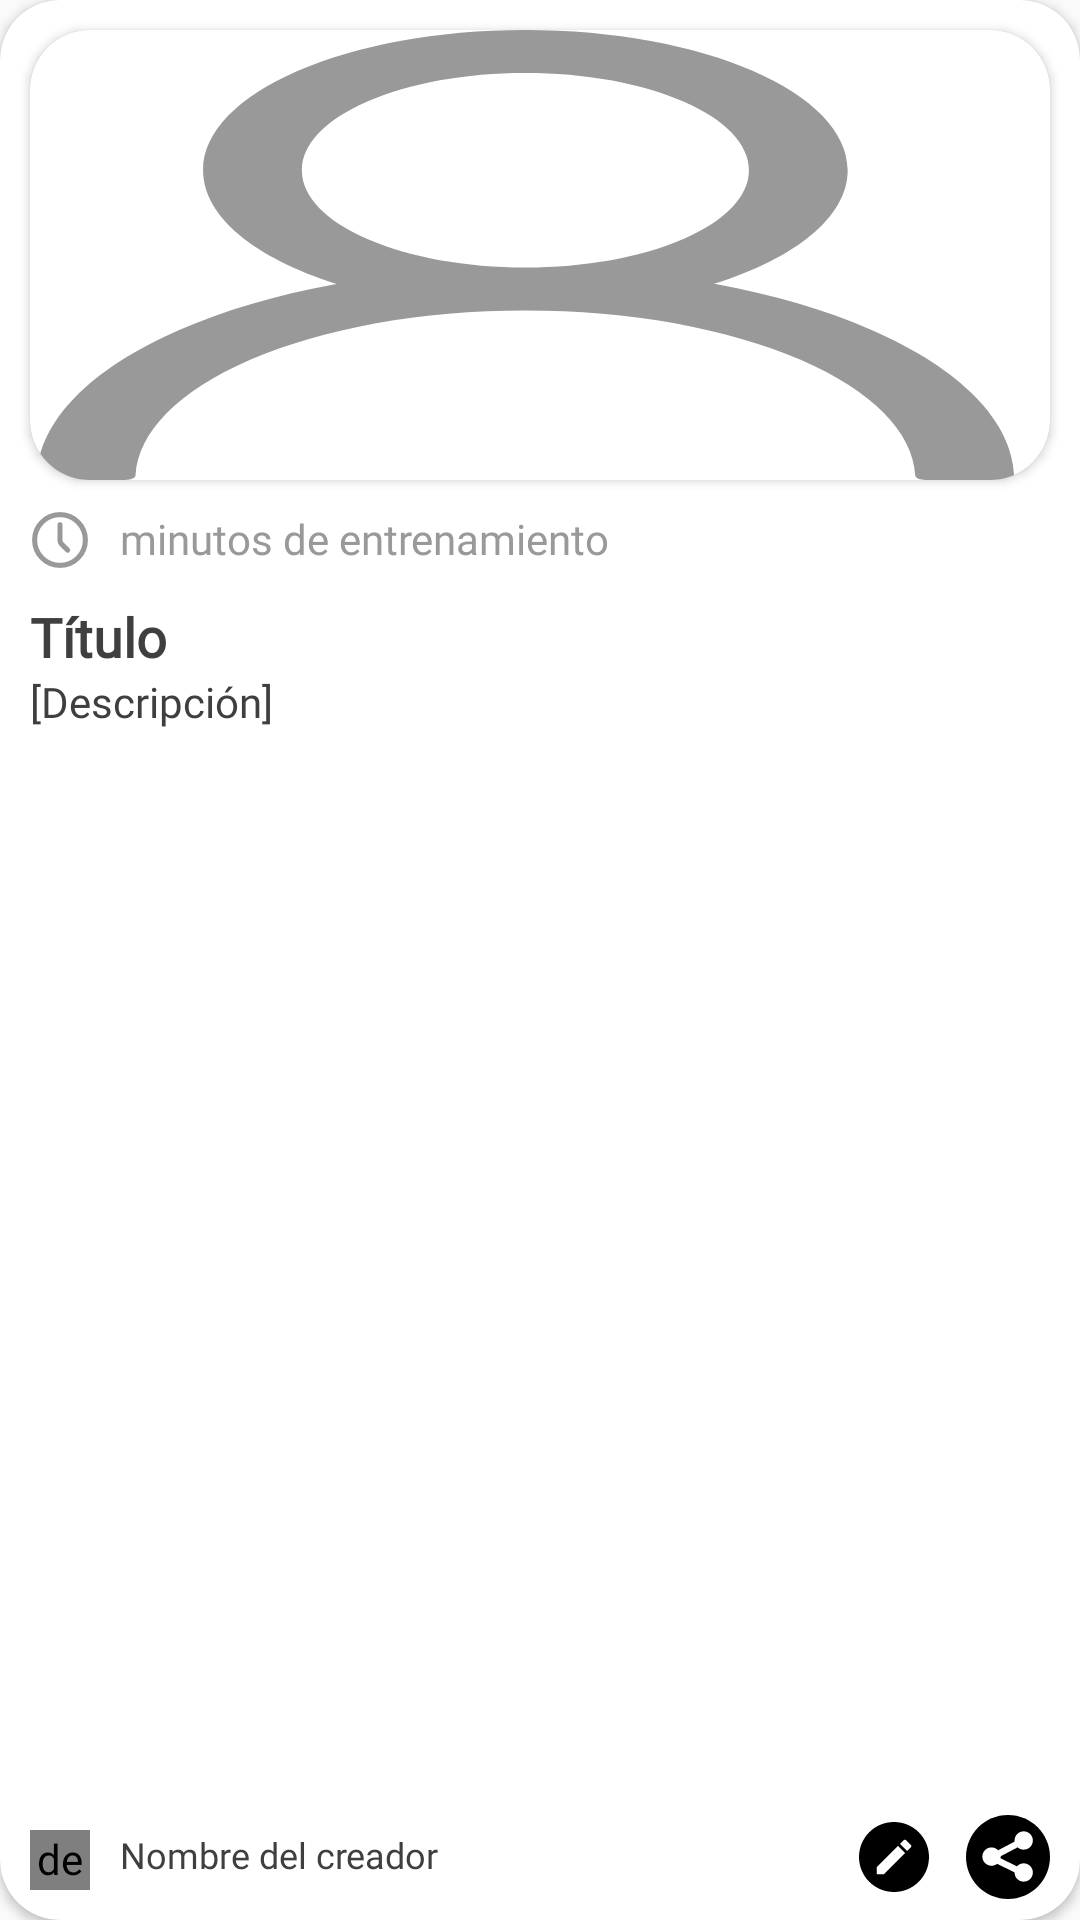

Screen size 1080px x 1920px. Icon name, then its box in pixels as (x1,y1,x2,y2):
edit: (859,1822,929,1892)
share: (966,1815,1050,1899)
timer: (32,512,88,568)
